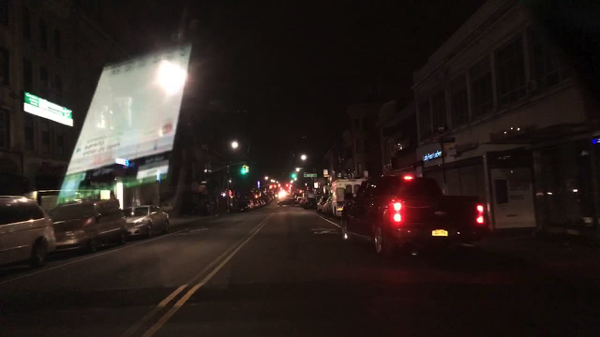bus: (330, 178, 366, 218)
car: (48, 198, 128, 254), (0, 195, 57, 270), (121, 205, 170, 240), (237, 199, 255, 211), (316, 196, 328, 211), (278, 198, 297, 207), (322, 196, 330, 215), (304, 197, 316, 209), (253, 198, 263, 208), (263, 194, 272, 204), (259, 197, 269, 206), (264, 193, 273, 200), (257, 198, 264, 206), (297, 198, 305, 205), (269, 193, 275, 198)
traffic light: (221, 192, 228, 198), (241, 165, 245, 173), (246, 166, 250, 173), (291, 173, 295, 178), (285, 184, 289, 187), (274, 185, 277, 188)
traffic sign: (435, 122, 447, 133), (442, 137, 455, 142), (304, 173, 318, 177), (323, 169, 328, 175), (323, 175, 331, 177)
truck: (341, 175, 485, 261)
